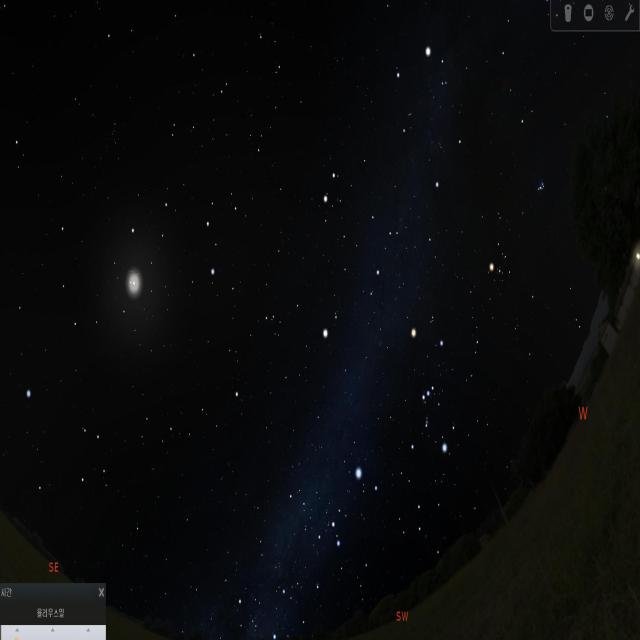canis_major: (328, 461, 389, 554)
canis_minor: (316, 306, 342, 348)
gemini: (320, 162, 418, 314)
leo: (125, 166, 248, 290)
moon: (115, 253, 153, 306)
orion: (402, 309, 451, 465)
pleiades: (528, 169, 549, 204)
taurus: (482, 171, 554, 291)
